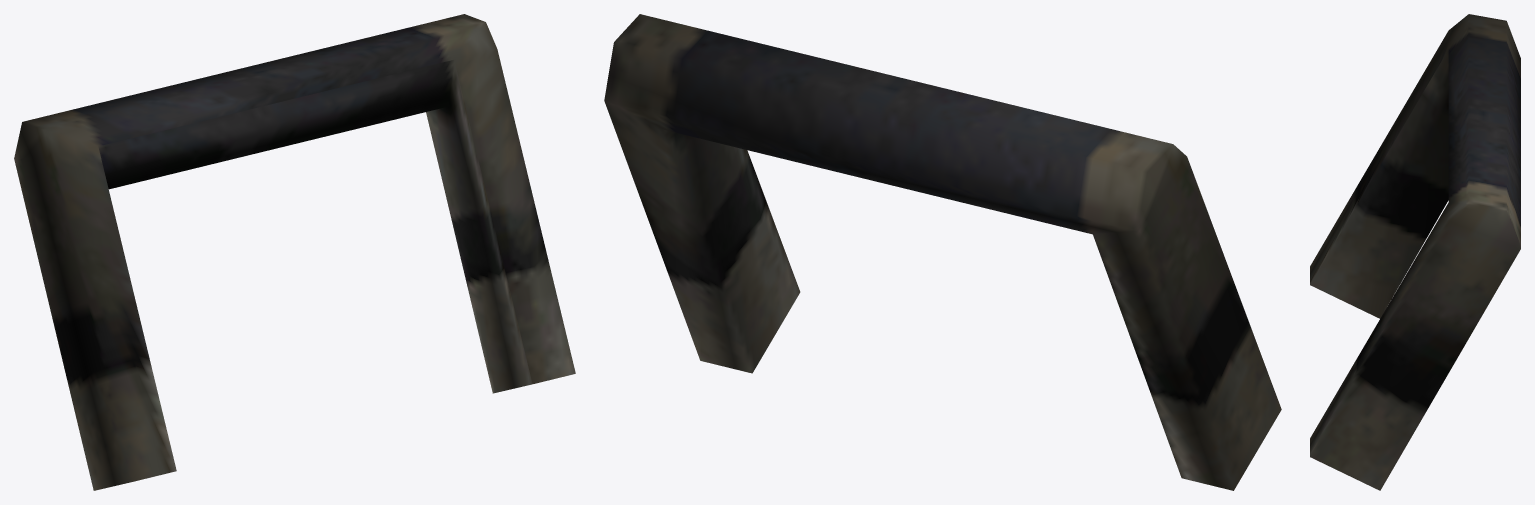
File: power_generator_flesher_lever.DAE
3 views of the same model, side by side, from view 1: azimuth 30°, elevation 25°; view 2: azimuth 150°, elevation 25°; view 3: azimuth 270°, elevation 25° (orthographic). The views are drawn at different scales.
Parts seen in each view (by area): view 1: power_generator_flesher_lever; view 2: power_generator_flesher_lever; view 3: power_generator_flesher_lever.
Part boxes in pixels (x1,y1,x2,y2): power_generator_flesher_lever: (14,14,575,490); power_generator_flesher_lever: (604,14,1281,490); power_generator_flesher_lever: (1310,14,1520,490).
Size of the model in its own units: 21.47 by 10.04 by 15.04.
